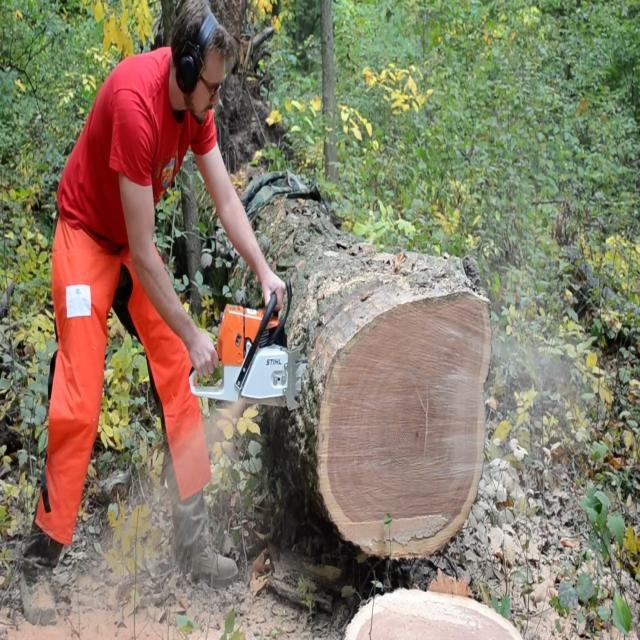Chainsaw: (178, 284, 322, 421)
